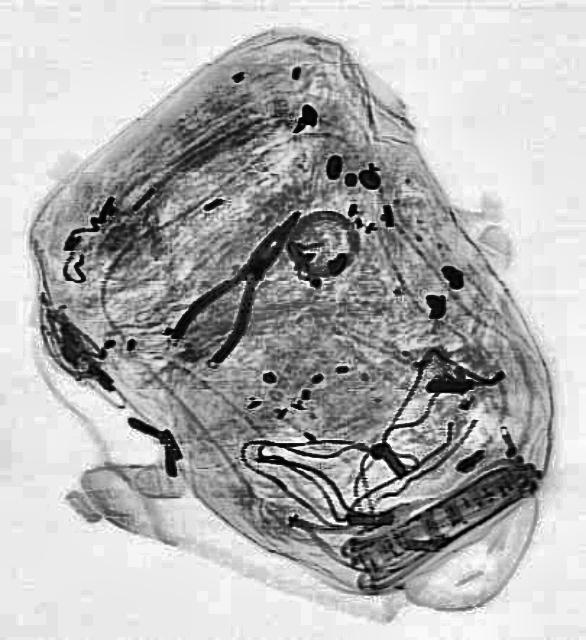Pliers: (164, 191, 322, 371)
